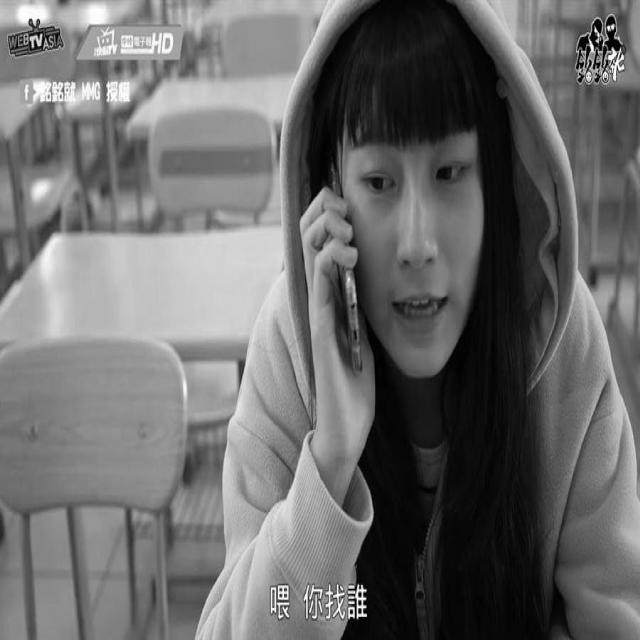phone: (288, 134, 406, 432)
